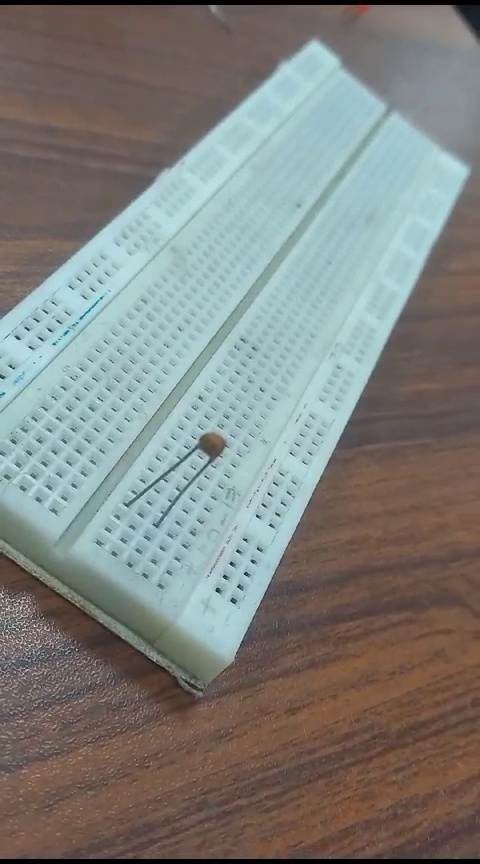ceramic capacitor: (194, 413, 234, 468)
